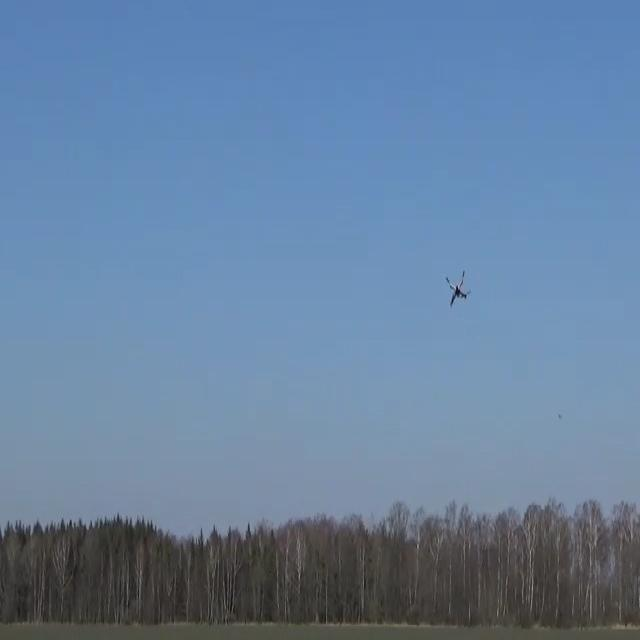drone: (445, 270, 470, 306)
